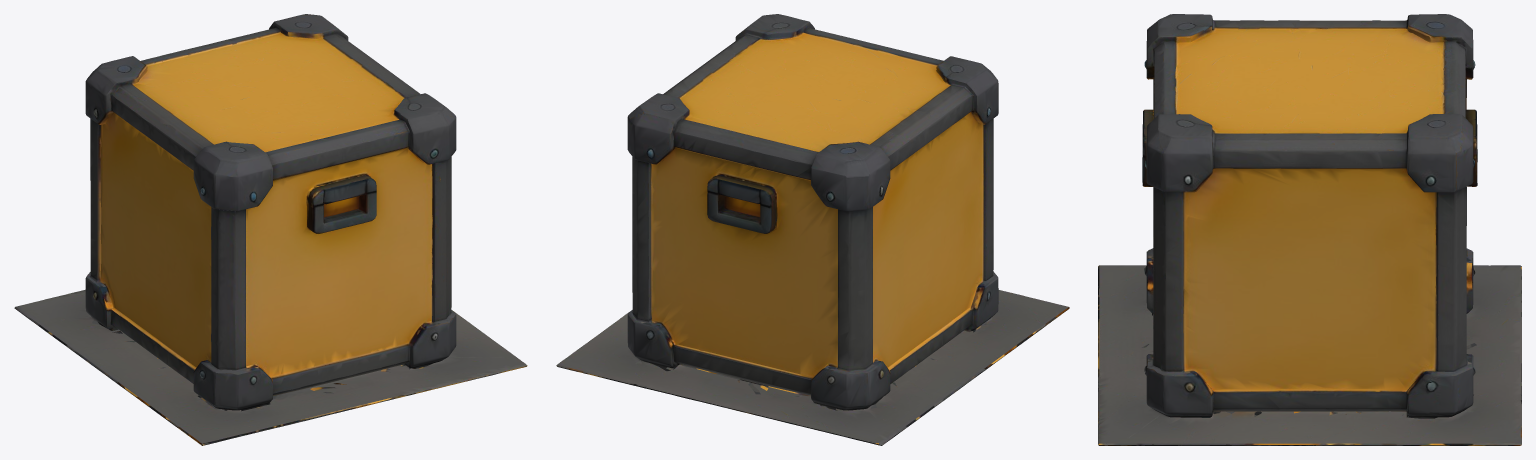
File: krea-crate.glb
The picture shows the model from 3 angles, left to right: view 1: azimuth 30°, elevation 25°; view 2: azimuth 150°, elevation 25°; view 3: azimuth 270°, elevation 25°; orthographic projection. The views are drawn at different scales.
Parts seen in each view (by area): view 1: textured_mesh; view 2: textured_mesh; view 3: textured_mesh.
Boxes of the visible parts, bbox=[...] form: textured_mesh: bbox=[14, 14, 527, 445]; textured_mesh: bbox=[556, 14, 1069, 445]; textured_mesh: bbox=[1098, 14, 1521, 445].
Bounding box in the file's own units: 2 × 1.47 × 1.99.
1 material, 1 textured.
